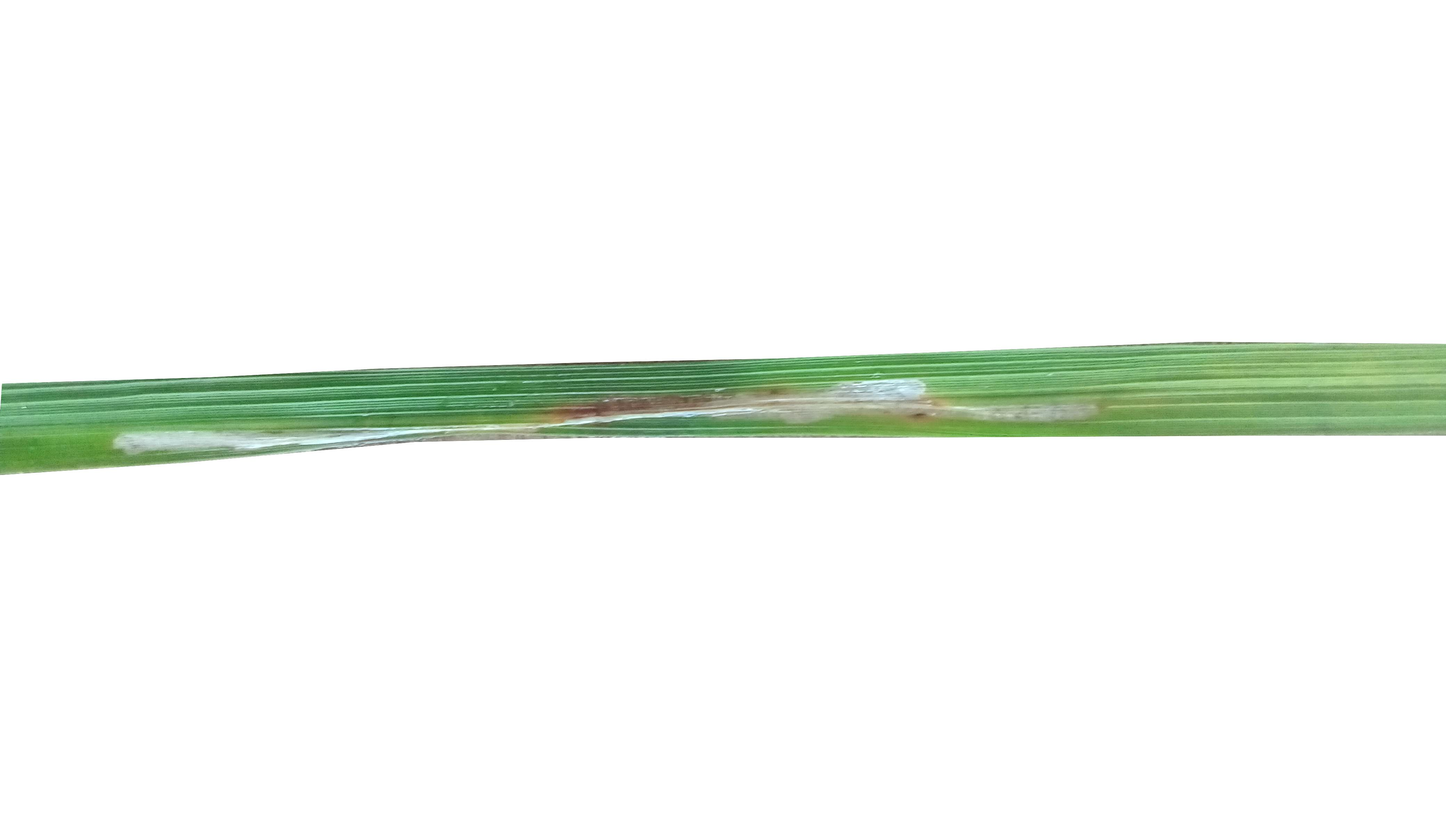Blight: (711, 370, 932, 426), (120, 419, 436, 445), (546, 389, 714, 431), (916, 406, 1118, 426)
